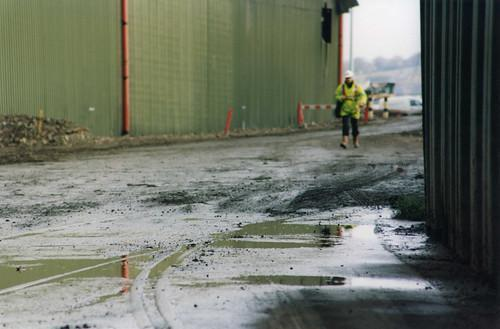vest: (333, 82, 368, 120)
